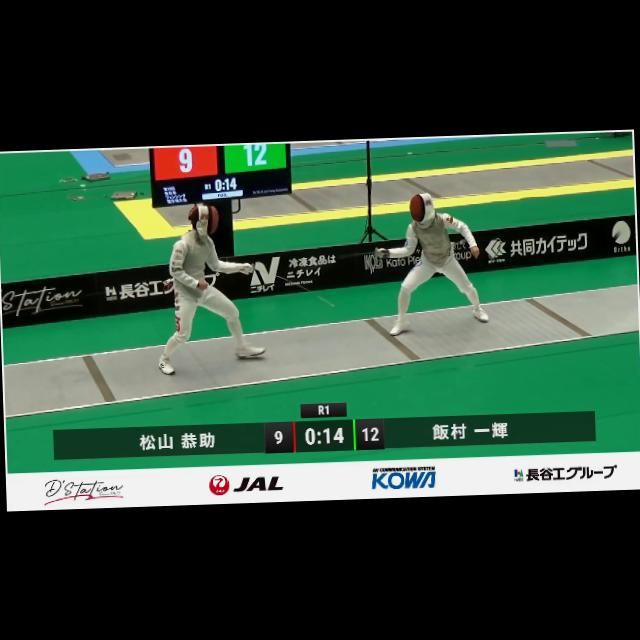blade: (242, 256, 342, 314), (338, 241, 387, 264)
